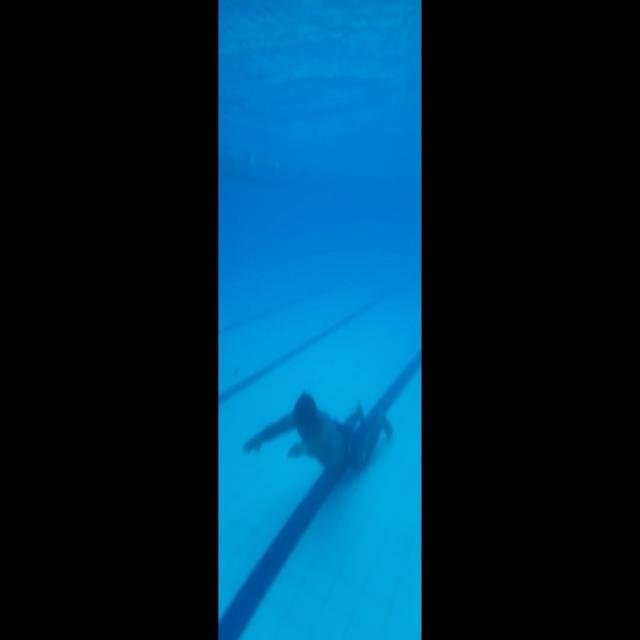drowning: (248, 372, 401, 498)
